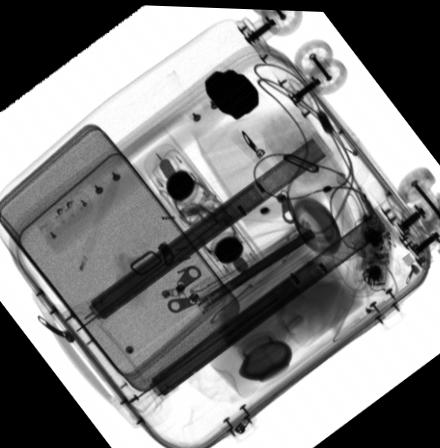Hammer: (43, 66, 259, 255)
